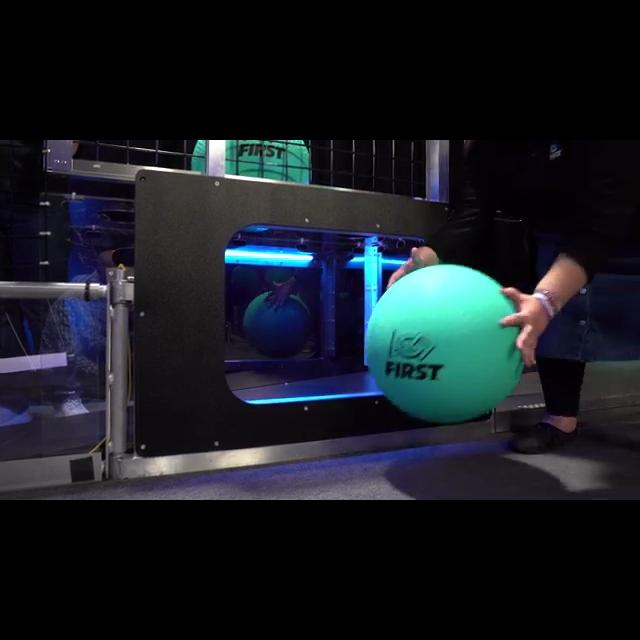ALGAE: (363, 262, 524, 424), (191, 140, 311, 182)
